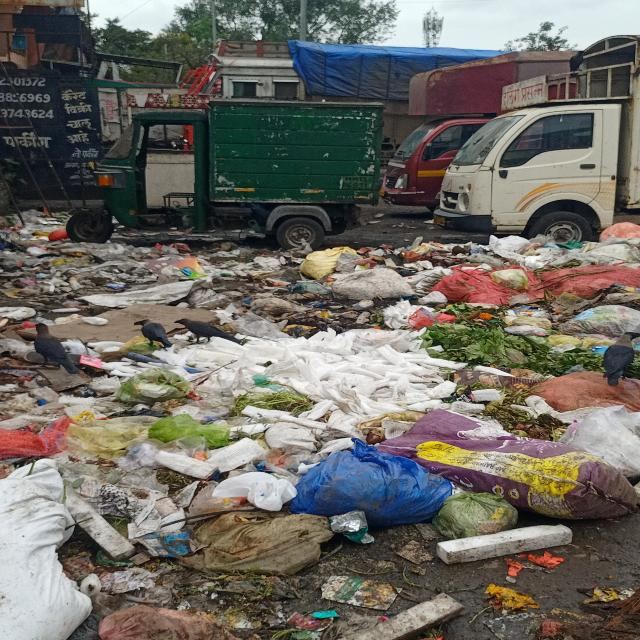garbage: (2, 241, 640, 640)
